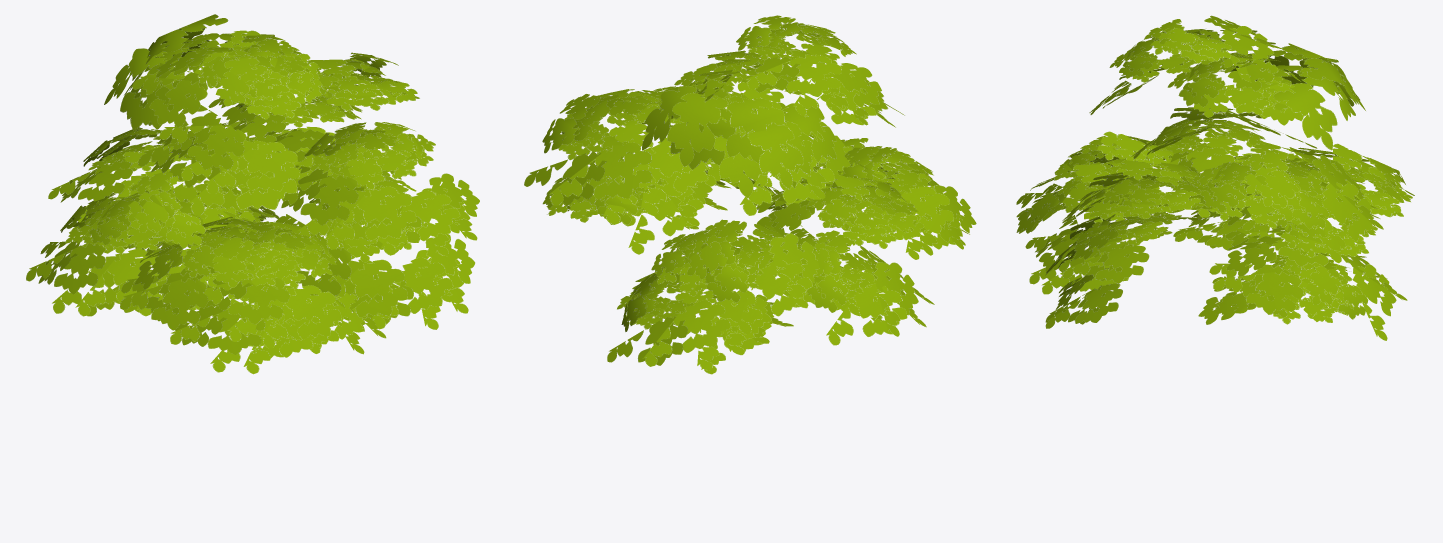
File: tree-lowpoly2.fbx
3 views of the same model, side by side, from view 1: azimuth 30°, elevation 25°; view 2: azimuth 150°, elevation 25°; view 3: azimuth 270°, elevation 25° (orthographic). The views are drawn at different scales.
Visible parts, largest first — view 1: foliage:tree3.002; view 2: foliage:tree3.002; view 3: foliage:tree3.002.
Part boxes in pixels (x1,y1,x2,y2): foliage:tree3.002: (26, 14, 479, 374); foliage:tree3.002: (524, 15, 976, 374); foliage:tree3.002: (1016, 15, 1414, 340).
Bounding box in the file's own units: 59.61 × 73.75 × 57.85.
Materials: 1 (1 with a texture image).
